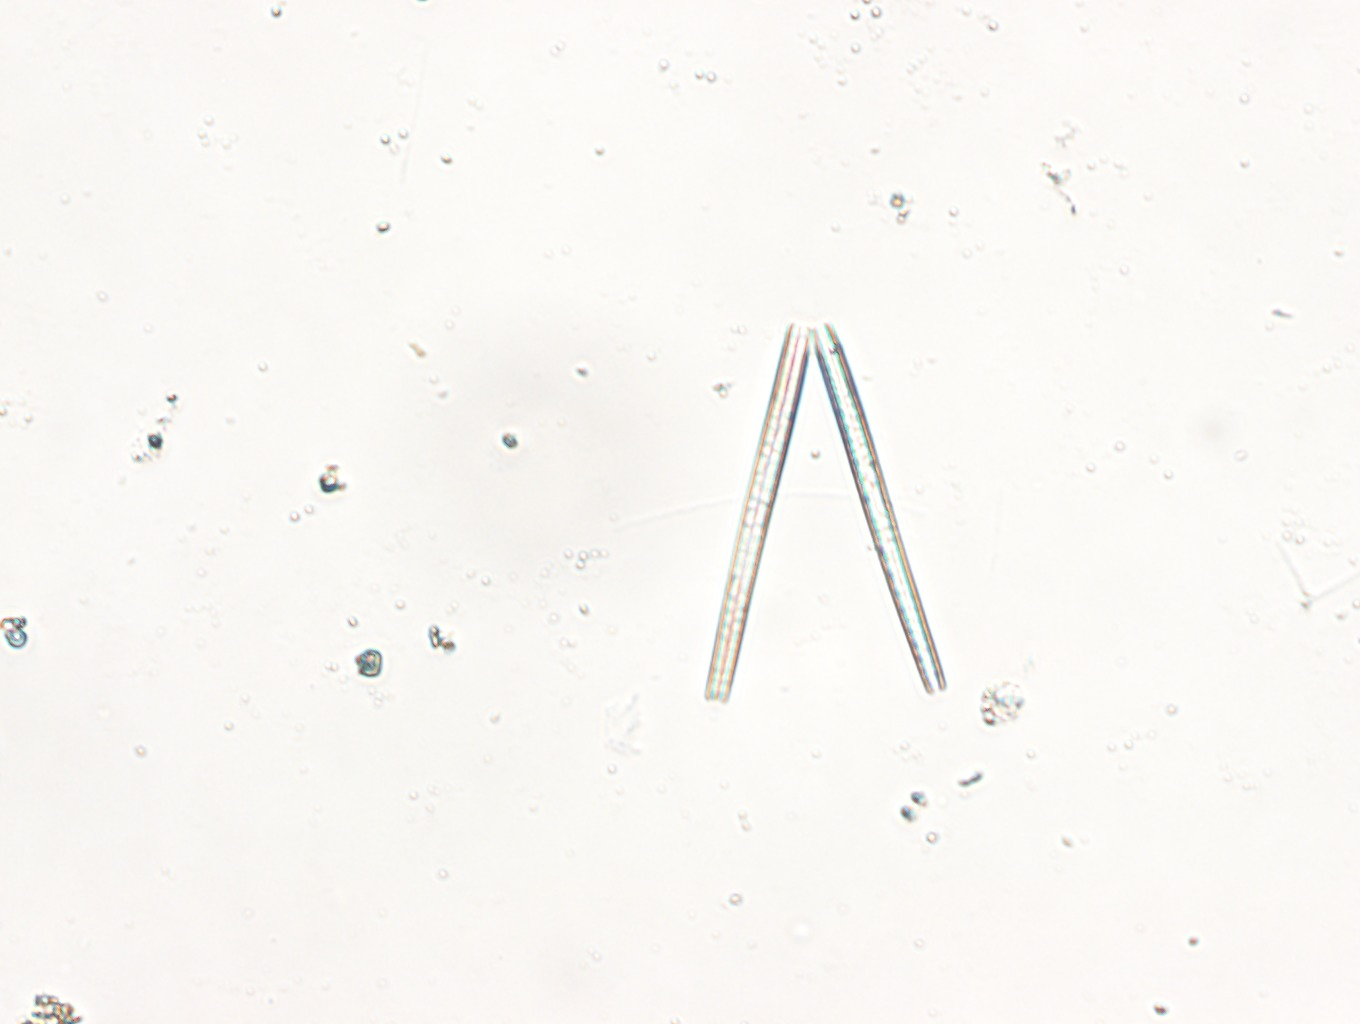thalassionema frauenfeldii: (693, 317, 946, 708)
